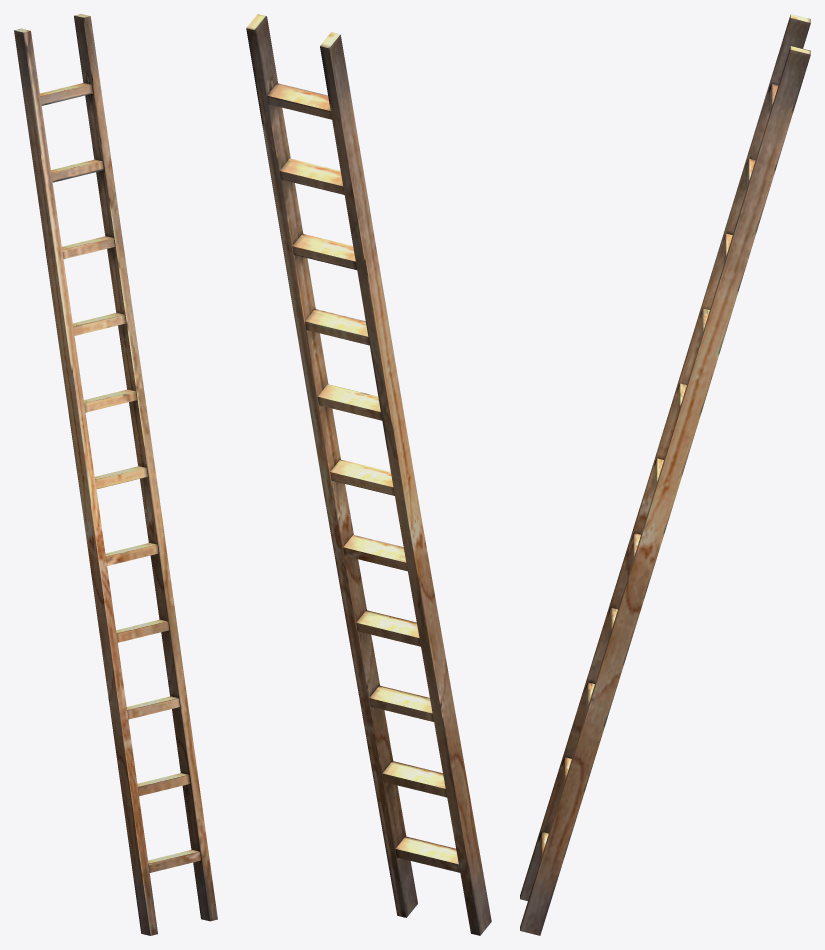
File: building_ladder.glb
3 renders of one model, left to right at view 1: azimuth 30°, elevation 25°; view 2: azimuth 150°, elevation 25°; view 3: azimuth 270°, elevation 25°, orthographic. The views are drawn at different scales.
Visible parts, largest first — view 1: building_ladder; view 2: building_ladder; view 3: building_ladder.
Boxes of the visible parts, x1,y1,x2,y2 form: building_ladder: (14, 14, 217, 935); building_ladder: (246, 14, 491, 935); building_ladder: (520, 14, 810, 935).
Bounding box in the file's own units: 0.646 × 7.24 × 2.16.
1 material, 1 textured.
